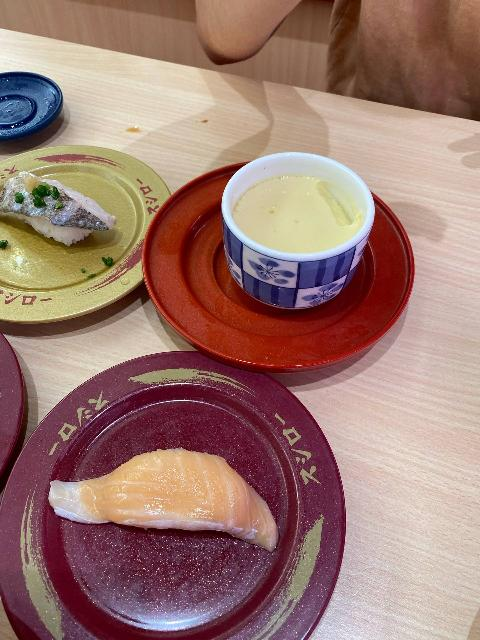jangold: (0, 118, 173, 336)
janred: (43, 364, 382, 640), (172, 174, 431, 379), (0, 327, 54, 471)
